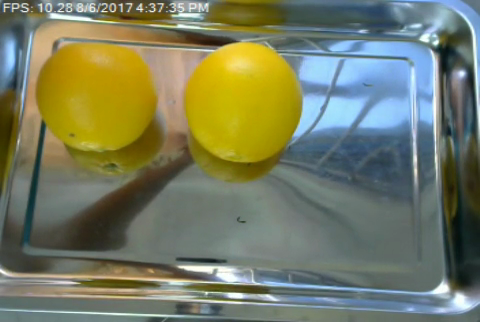Orange: (187, 43, 301, 164), (35, 41, 158, 151)
